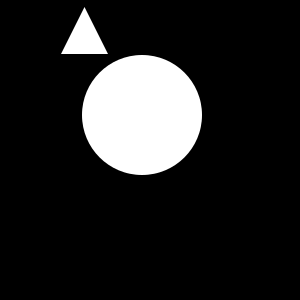rectangle: (82, 55, 202, 175)
triangle: (61, 7, 108, 54)
